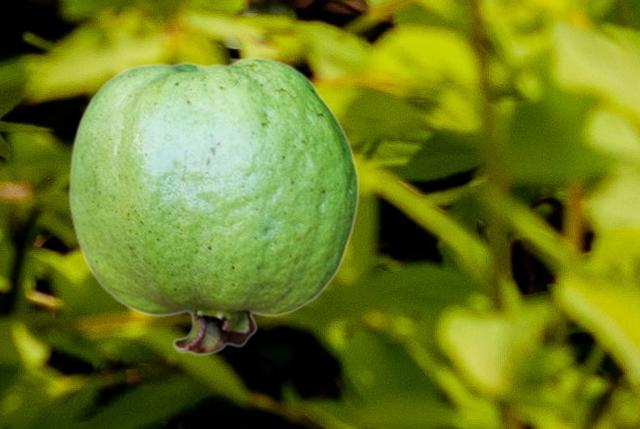guava: (68, 57, 359, 355)
